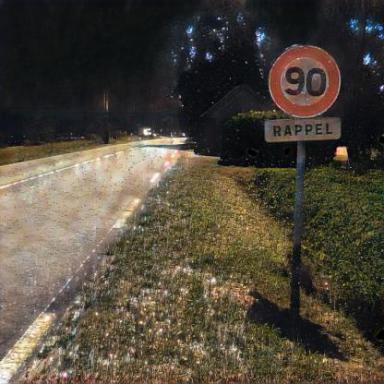Speed_limit_90: (272, 47, 341, 119)
